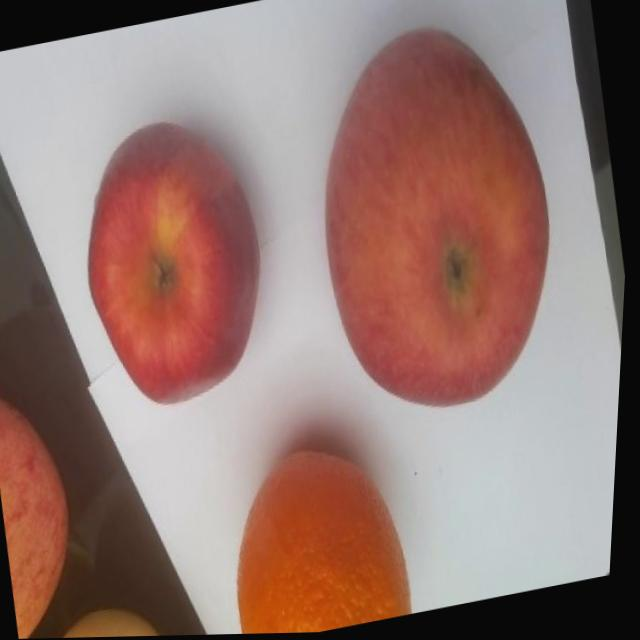Apple: (281, 6, 594, 434), (61, 107, 294, 421), (0, 384, 102, 640)
Orange: (209, 426, 433, 636)
